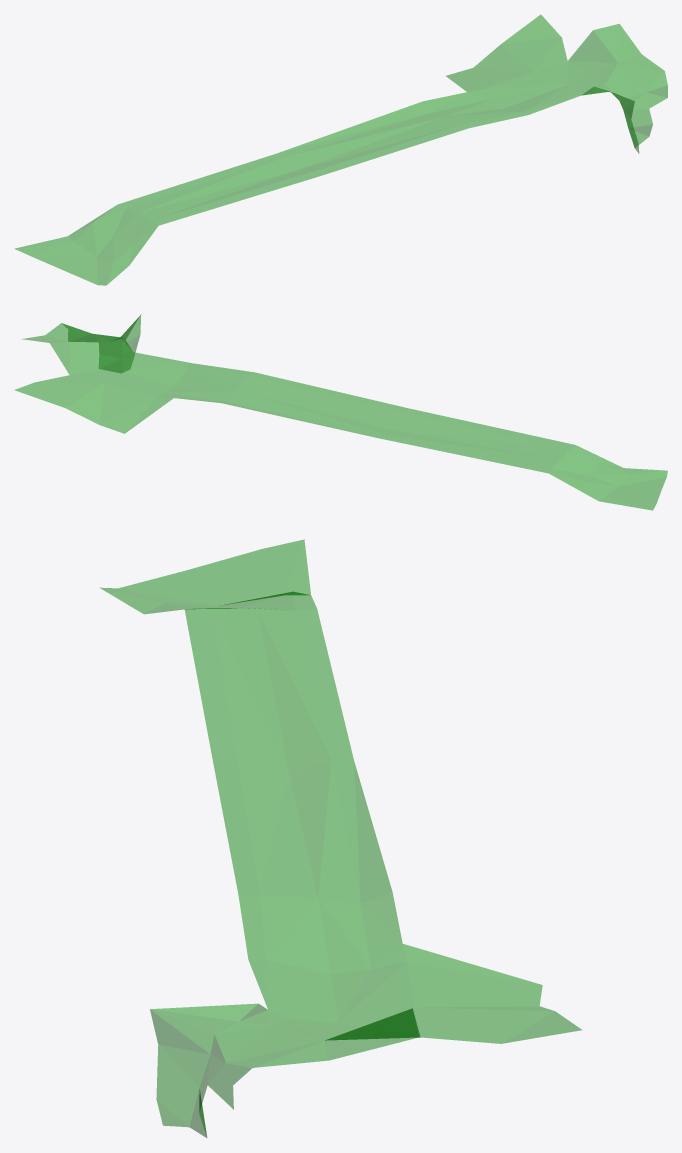
The model's file is wall2.obj.
3 renders of one model, top to bottom at view 1: azimuth 30°, elevation 25°; view 2: azimuth 150°, elevation 25°; view 3: azimuth 270°, elevation 25°, orthographic. The views are drawn at different scales.
Bounding box in the file's own units: 125 × 13.43 × 43.44.
